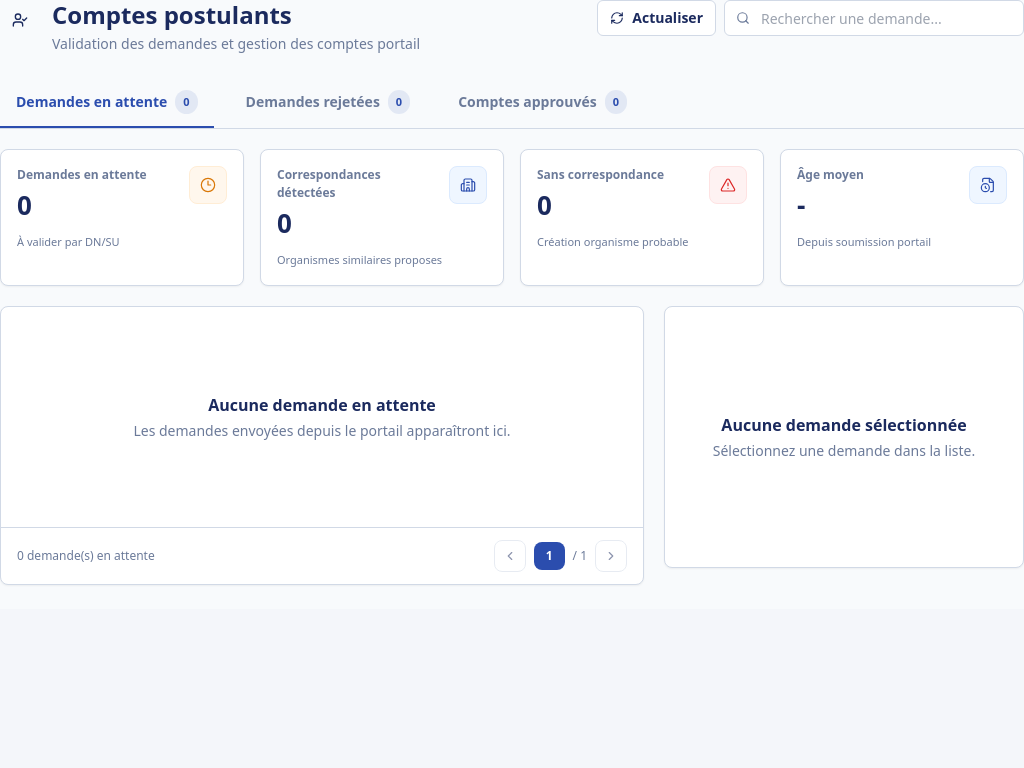
Test: <AccountRequestsPage> rejected requests (ACCOUNT-V2) › the details panel is read-only: status, reason, decision date, no decision control
The width and height of the screenshot is (1024, 768).
Click the button "Demandes rejetées 0" at [328, 103], box [230,78,426,128]
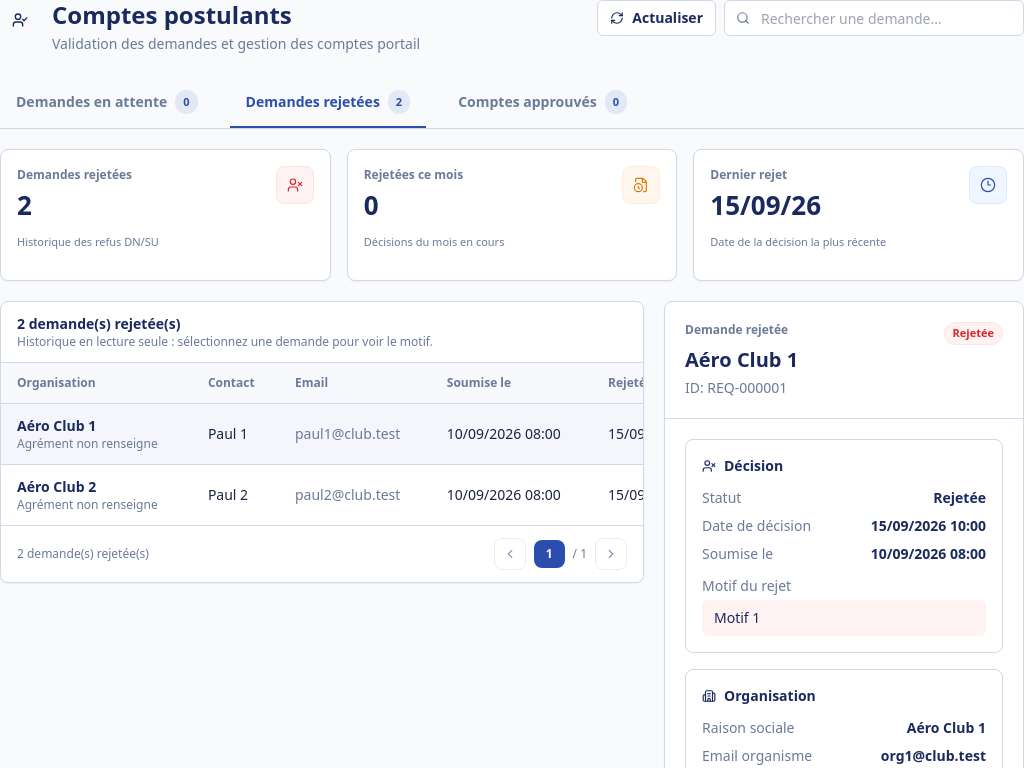
Click the text "Aéro Club 2" at [57, 486], box [17,476,96,496]
(page scrolled)
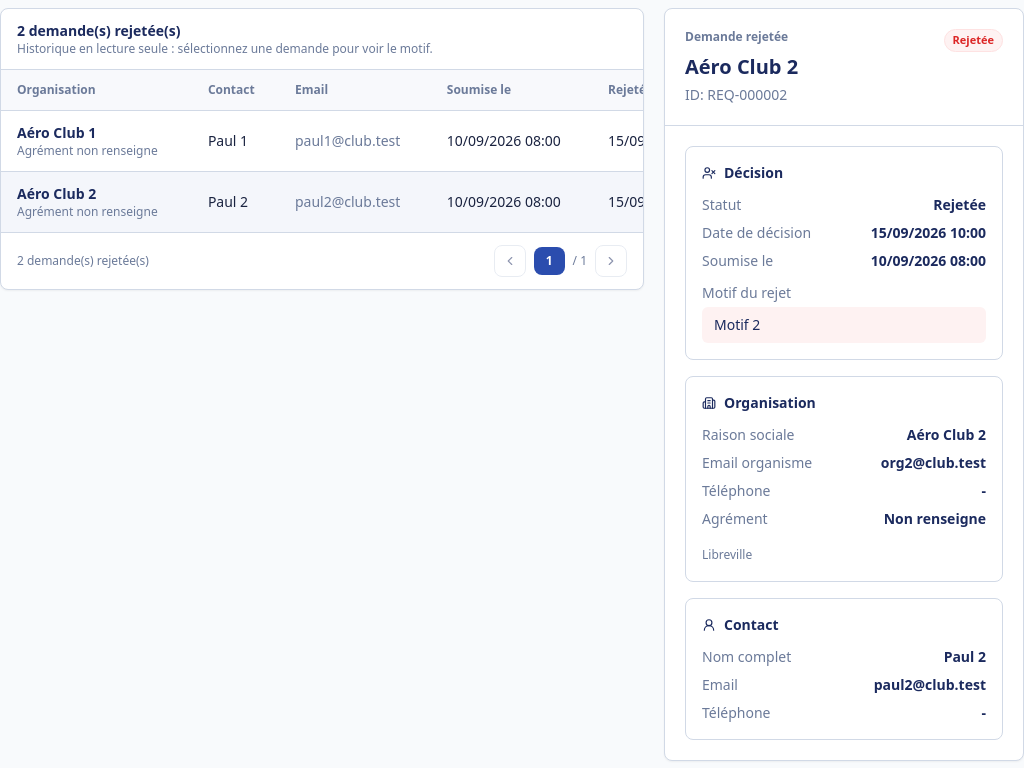
Check: the text "Motif du rejet" shows "Date de décision", box [702,223,811,242]
Check: the text "Motif du rejet" shows "rejetée", box [953,32,994,47]
Check: the text "Motif du rejet" shows "Motif 2", box [714,315,760,334]
